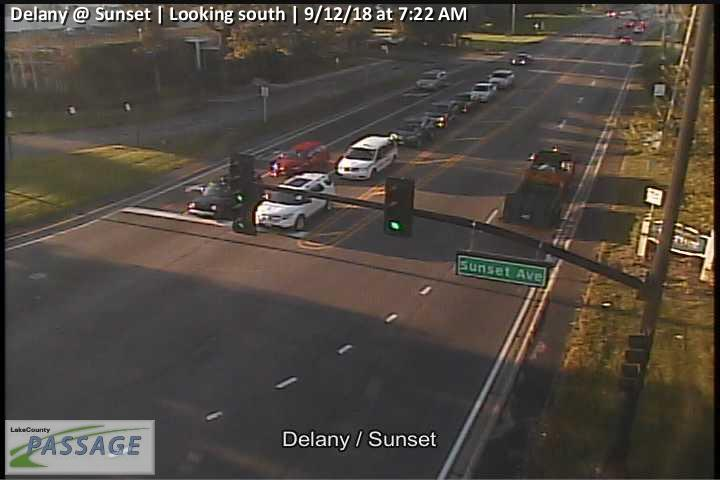SUV: (254, 173, 336, 230), (188, 173, 265, 220), (337, 135, 399, 181), (267, 141, 330, 182), (389, 117, 436, 149), (423, 100, 459, 129), (415, 68, 448, 90), (470, 81, 497, 101), (488, 68, 515, 87)
Sedan: (450, 91, 480, 112), (511, 52, 532, 65)
Truck: (503, 144, 575, 229)
